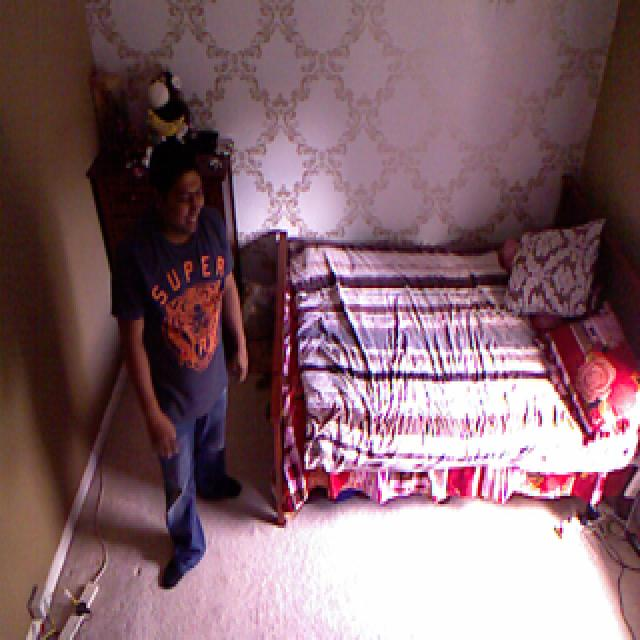standing: (112, 132, 243, 582)
